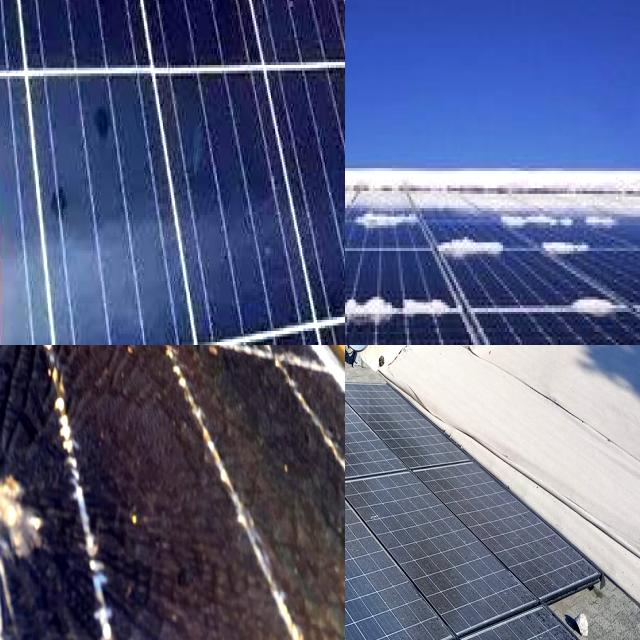dust: (345, 474, 401, 640), (422, 474, 477, 638), (345, 498, 379, 640)
hotspot: (0, 455, 73, 603)
panel: (476, 152, 640, 210), (345, 282, 455, 344), (345, 149, 464, 198), (436, 224, 528, 268), (350, 202, 430, 242), (545, 218, 600, 273), (563, 286, 625, 332), (345, 155, 412, 196), (345, 228, 411, 263), (345, 189, 368, 228), (345, 199, 356, 241)
shadow: (0, 72, 103, 345)
